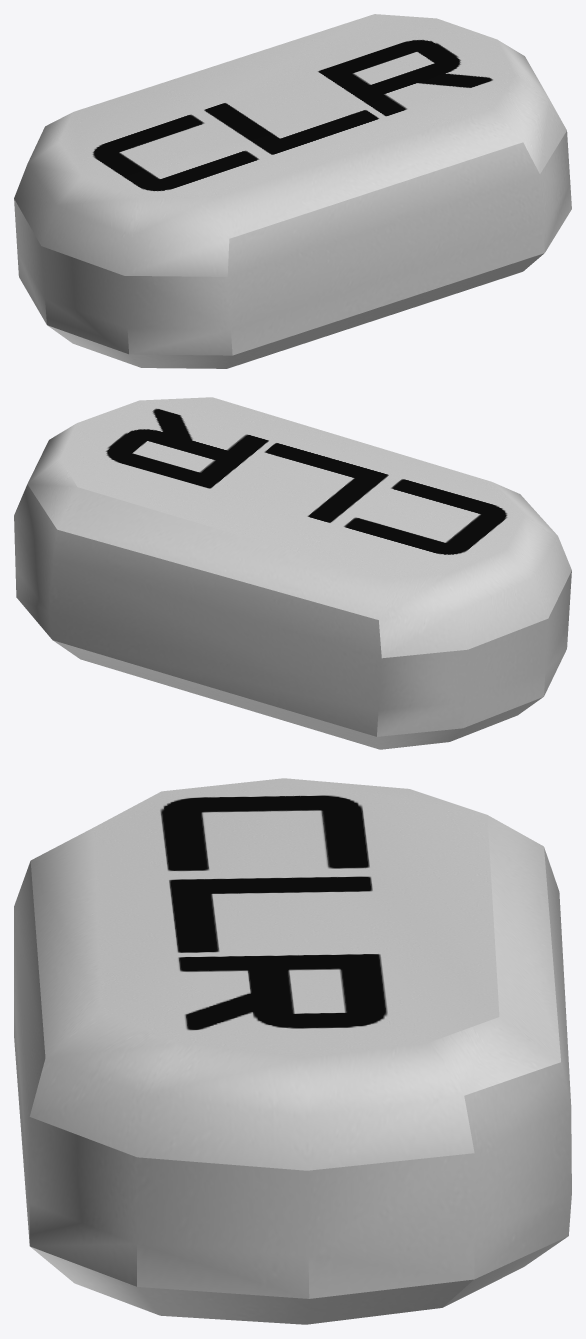
The model's file is CLR_button.glb.
3 renders of one model, top to bottom at view 1: azimuth 30°, elevation 25°; view 2: azimuth 150°, elevation 25°; view 3: azimuth 270°, elevation 25°, orthographic. The views are drawn at different scales.
Visible parts, largest first — view 1: CLR_button; view 2: CLR_button; view 3: CLR_button.
Boxes of the visible parts, bbox=[...] form: CLR_button: bbox=[14, 14, 571, 368]; CLR_button: bbox=[14, 397, 571, 749]; CLR_button: bbox=[14, 778, 571, 1324].
Size of the model in its own units: 0.00221 by 0.00081 by 0.00135.
Materials: 1 (1 with a texture image).
